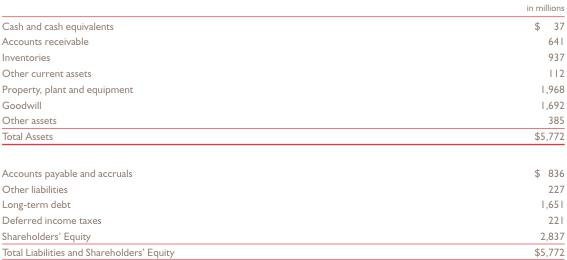table: (1, 1, 563, 257)
table column: (1, 1, 349, 257), (349, 1, 563, 257)
table column header: (1, 1, 563, 15)
table row: (1, 127, 563, 153), (1, 153, 563, 179), (1, 15, 563, 32), (1, 32, 563, 48), (1, 48, 563, 64), (1, 64, 563, 80), (1, 95, 563, 111), (1, 111, 563, 127), (1, 179, 563, 195), (1, 195, 563, 211), (1, 211, 563, 227), (1, 80, 563, 95), (1, 227, 563, 242), (1, 242, 563, 257), (1, 1, 563, 15)
